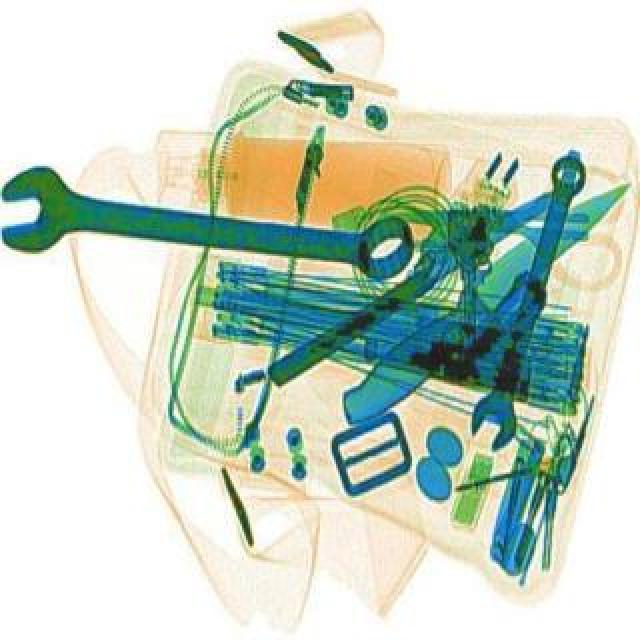gun: (362, 252, 558, 404)
knife: (330, 176, 638, 440), (266, 176, 592, 394), (408, 194, 594, 260)
scissors: (6, 166, 420, 300), (466, 154, 600, 458)
